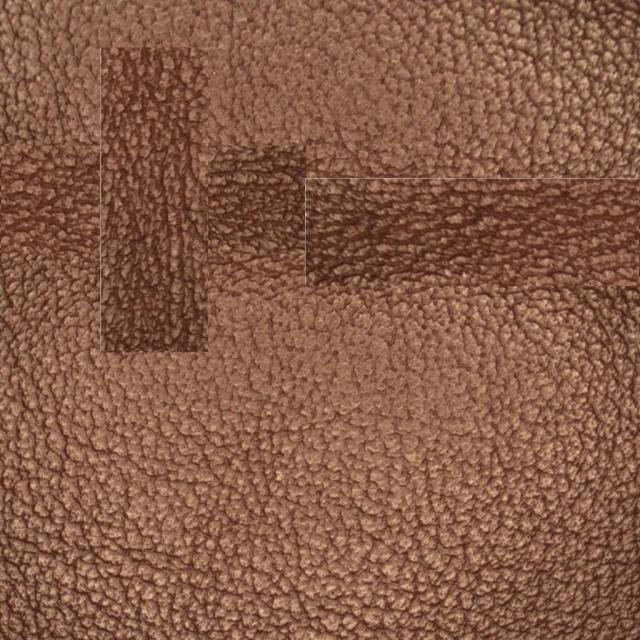Healed Injury: (273, 150, 617, 315), (83, 17, 221, 386)
